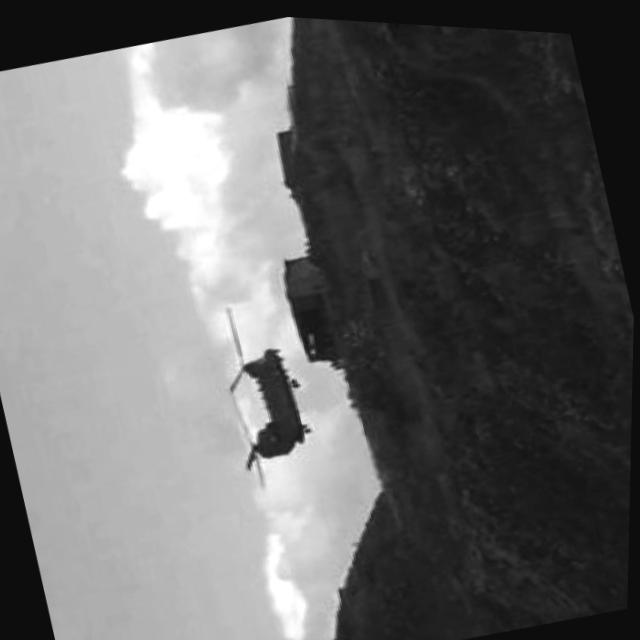helikopter: (204, 306, 342, 495)
